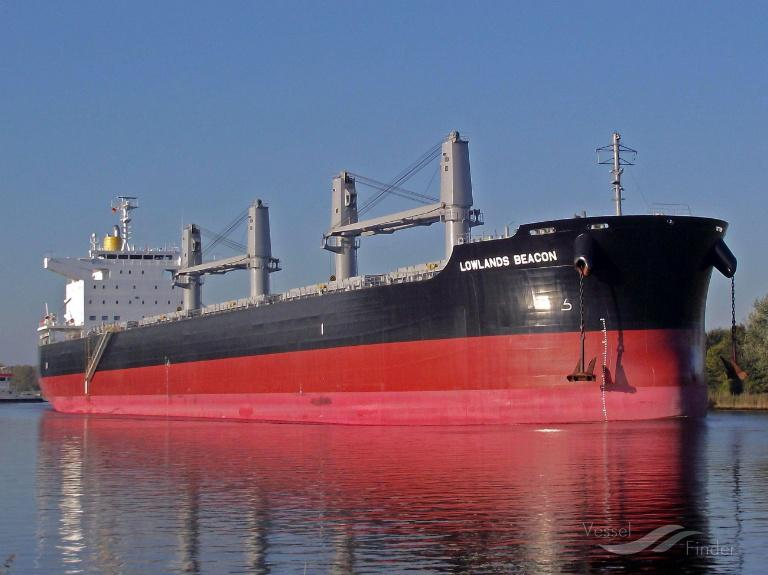OCR: (456, 248, 565, 282)
